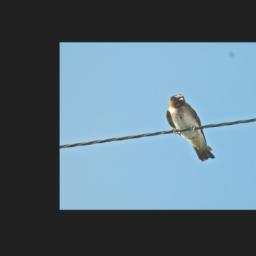Swallow: (165, 93, 217, 162)
